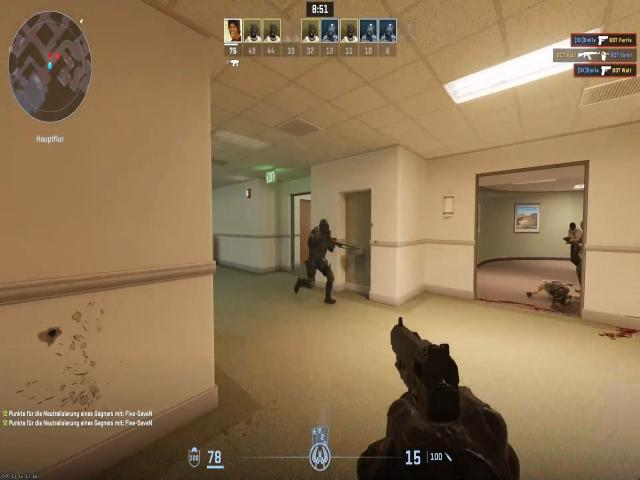CT: (306, 210, 333, 300)
CT-Head: (316, 215, 332, 235)
Dead: (531, 277, 570, 309)
T: (564, 218, 582, 268)
T-Head: (566, 220, 578, 233)
